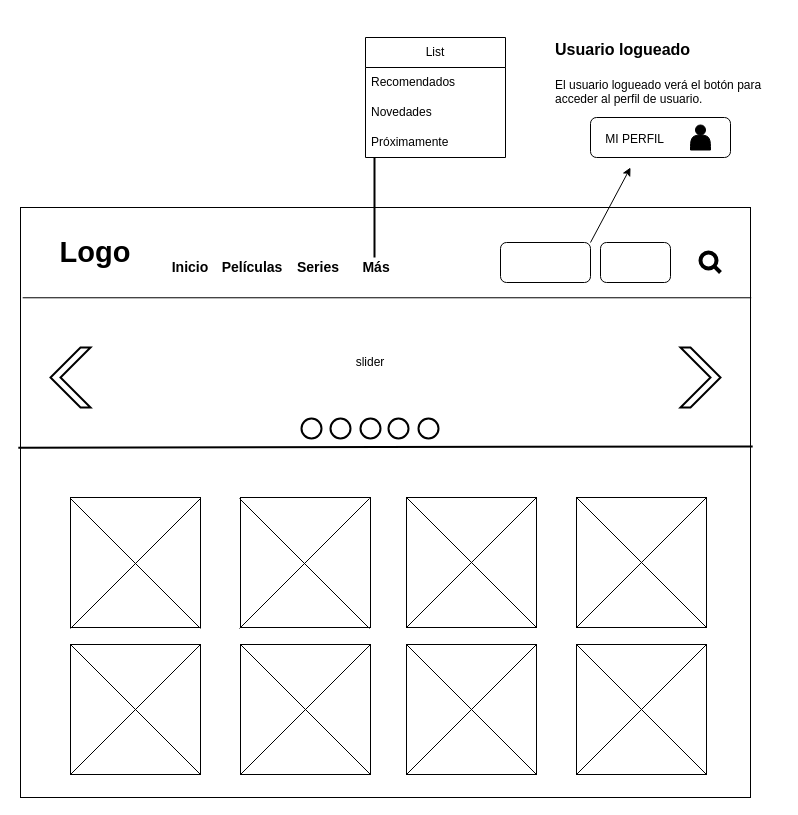
Some shapes in this 798 by 815 pixel diagram are drawn without their labels. The shapes that lost their labels are listed below. From the top down, each one's centre as x and y in pixels, then its label:
[545,262]: SUSCRÍBETE
[635,262]: ENTRA
